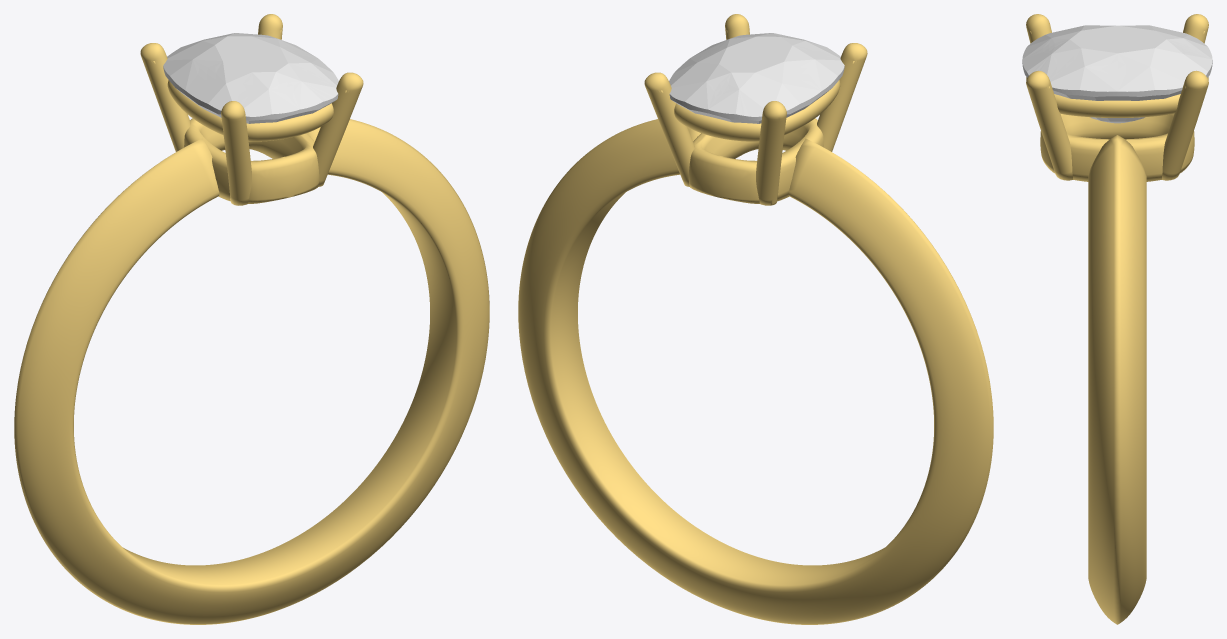
The model's file is diamond-cushion-yellowgold-4prong-knifeedge-nosidestones.glb.
3 views of the same model, side by side, from view 1: azimuth 30°, elevation 25°; view 2: azimuth 150°, elevation 25°; view 3: azimuth 270°, elevation 25° (orthographic).
Parts seen in each view (by area): view 1: metal, stone; view 2: metal, stone; view 3: metal, stone.
Boxes of the visible parts, x1,y1,x2,y2 form: metal: (14,14,489,624); stone: (163,33,338,123); metal: (518,14,993,624); stone: (669,33,844,123); metal: (1026,14,1208,624); stone: (1022,25,1212,123).
Size of the model in its own units: 20.5 by 23.24 by 7.15.
